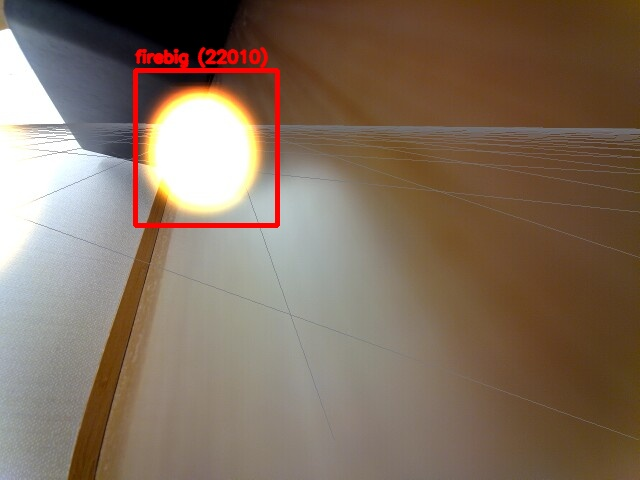firebig: (135, 70, 277, 225)
